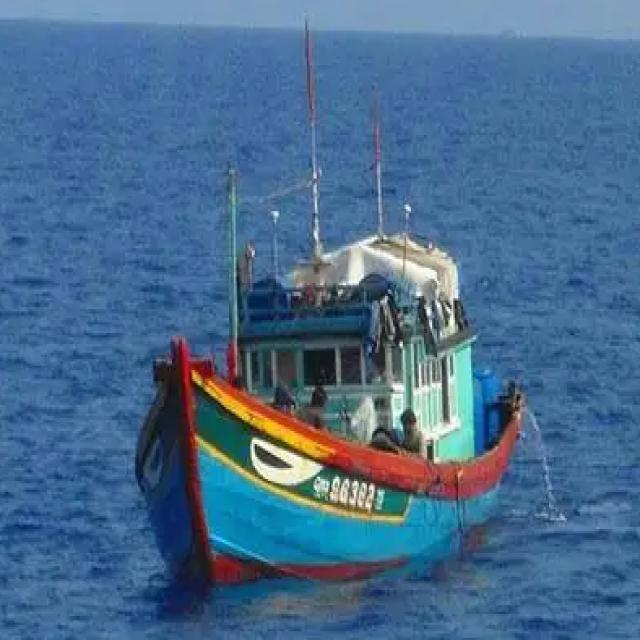fishing boat: (137, 63, 529, 592)
